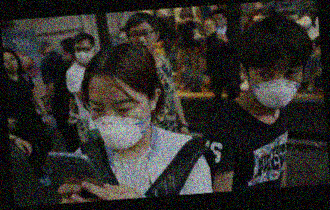with_mask: (90, 93, 152, 151), (250, 61, 303, 108), (73, 44, 94, 64)
without_mask: (129, 25, 157, 53), (4, 55, 18, 74), (212, 15, 228, 30)
